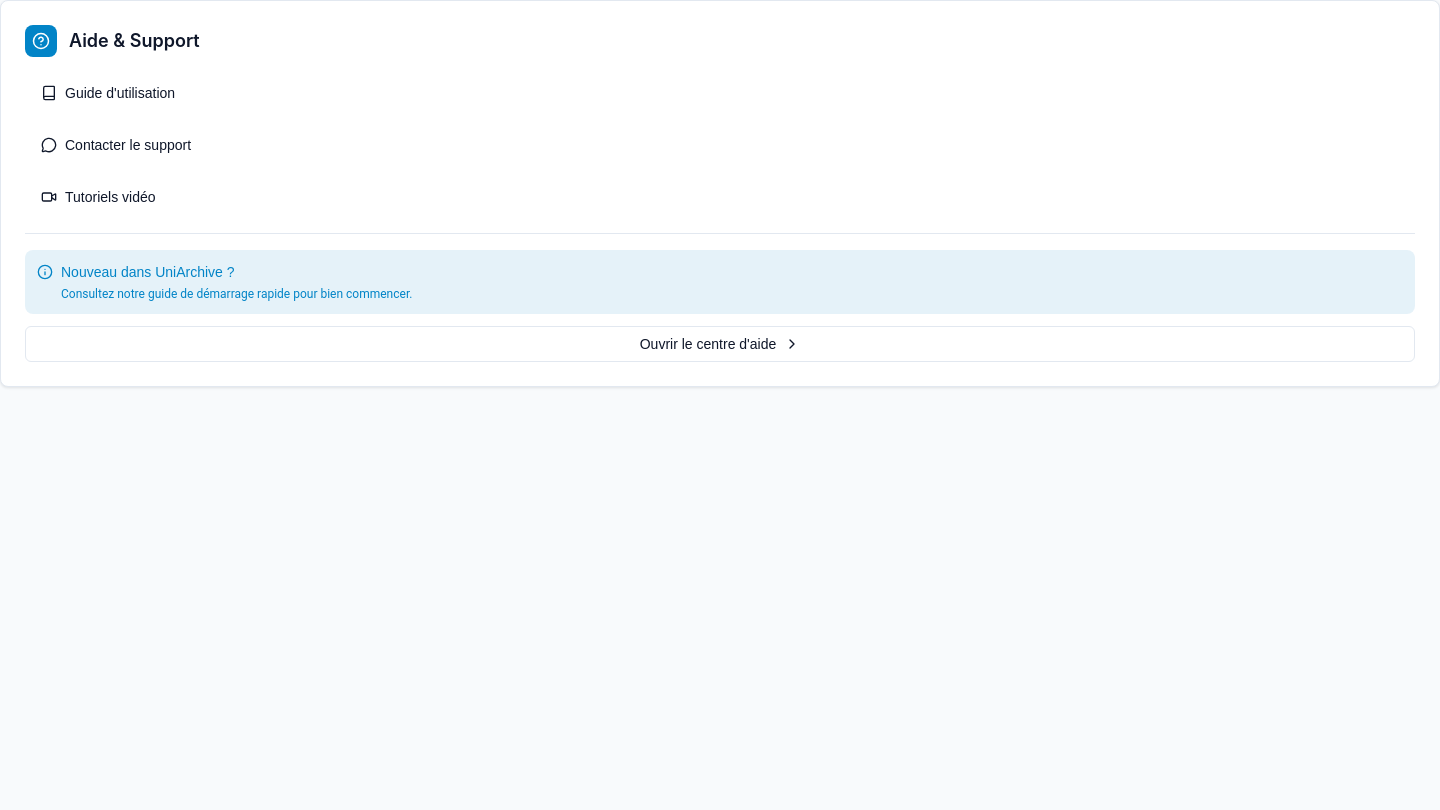
Test: Aide & Support (tableau de bord) › ouvre le guide d'utilisation
The image size is (1440, 810).
Click the button "Guide d'utilisation". click: (120, 93)
box: [25,73,1415,113]
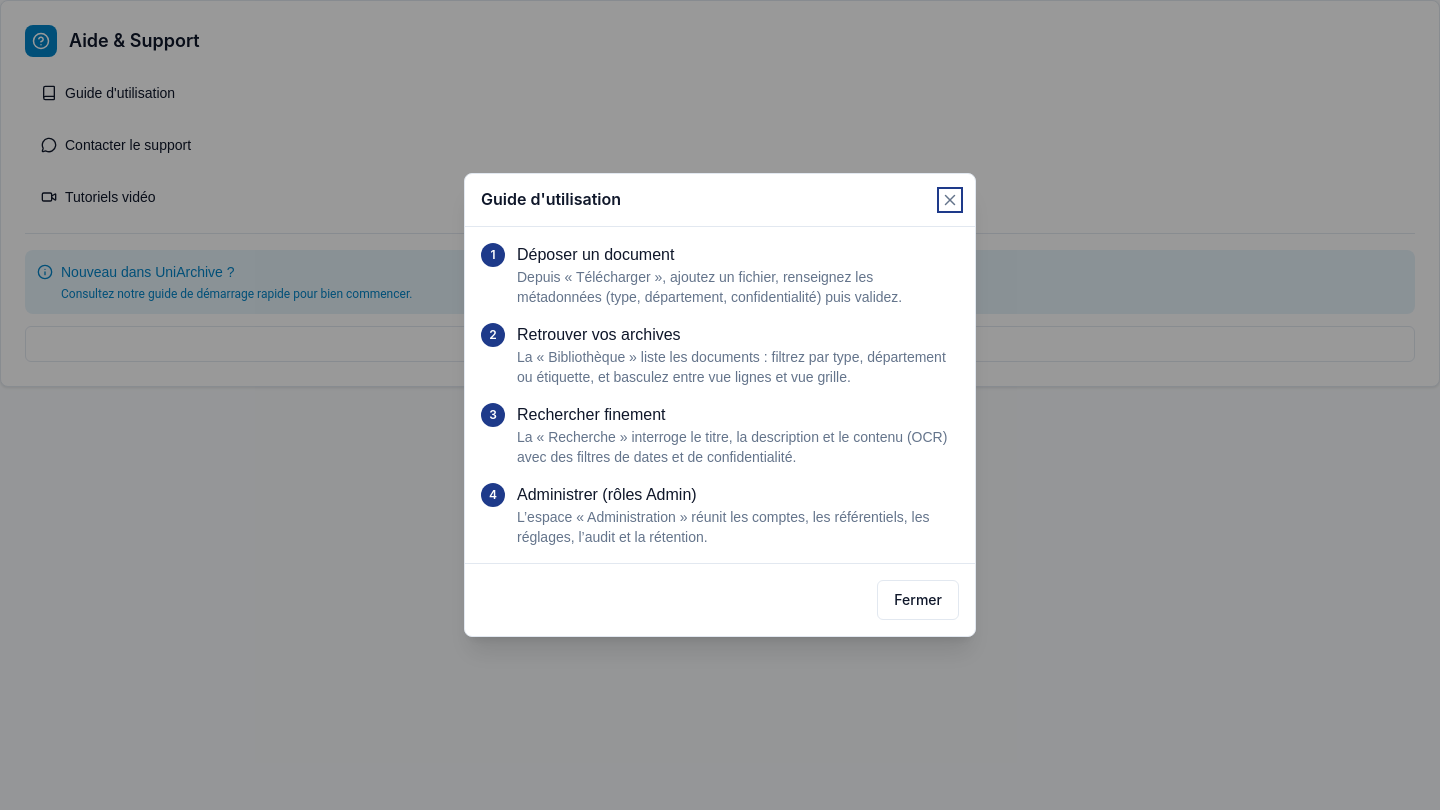
Now the text "Déposer un document" is shown, box [517,246,674,263]
